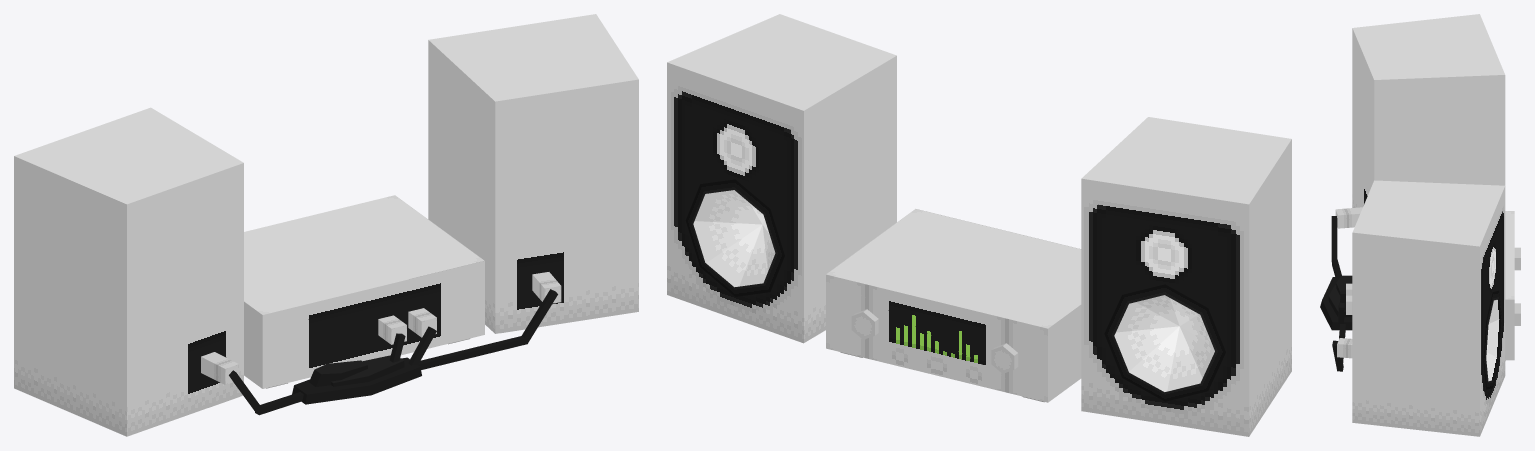
The model's file is audio.glb.
3 views of the same model, side by side, from view 1: azimuth 30°, elevation 25°; view 2: azimuth 150°, elevation 25°; view 3: azimuth 270°, elevation 25° (orthographic). The views are drawn at different scales.
Parts seen in each view (by area): view 1: Speaker.003, Speaker.004, Cube, 立方体; view 2: Speaker.004, Speaker.003, Cube, Woofer.003, Woofer.004; view 3: Speaker.004, Speaker.003, Cube, Woofer.004, 立方体.
Boxes of the visible parts, left/top/right/bottom form: Speaker.003: left=14, top=107, right=561, bottom=436; Speaker.004: left=428, top=14, right=638, bottom=333; Cube: left=244, top=195, right=484, bottom=404; 立方体: left=229, top=289, right=557, bottom=415; Speaker.004: left=667, top=14, right=896, bottom=343; Speaker.003: left=1081, top=117, right=1291, bottom=436; Cube: left=826, top=209, right=1081, bottom=402; Woofer.003: left=1104, top=284, right=1225, bottom=401; Woofer.004: left=685, top=179, right=784, bottom=296; Speaker.004: left=1352, top=180, right=1505, bottom=436; Speaker.003: left=1335, top=14, right=1505, bottom=358; Cube: left=1320, top=211, right=1520, bottom=360; Woofer.004: left=1483, top=290, right=1501, bottom=389; 立方体: left=1331, top=216, right=1345, bottom=371.
Bounding box in the file's own units: 5.24 × 2 × 1.91.
Materials: 1 (1 with a texture image).
